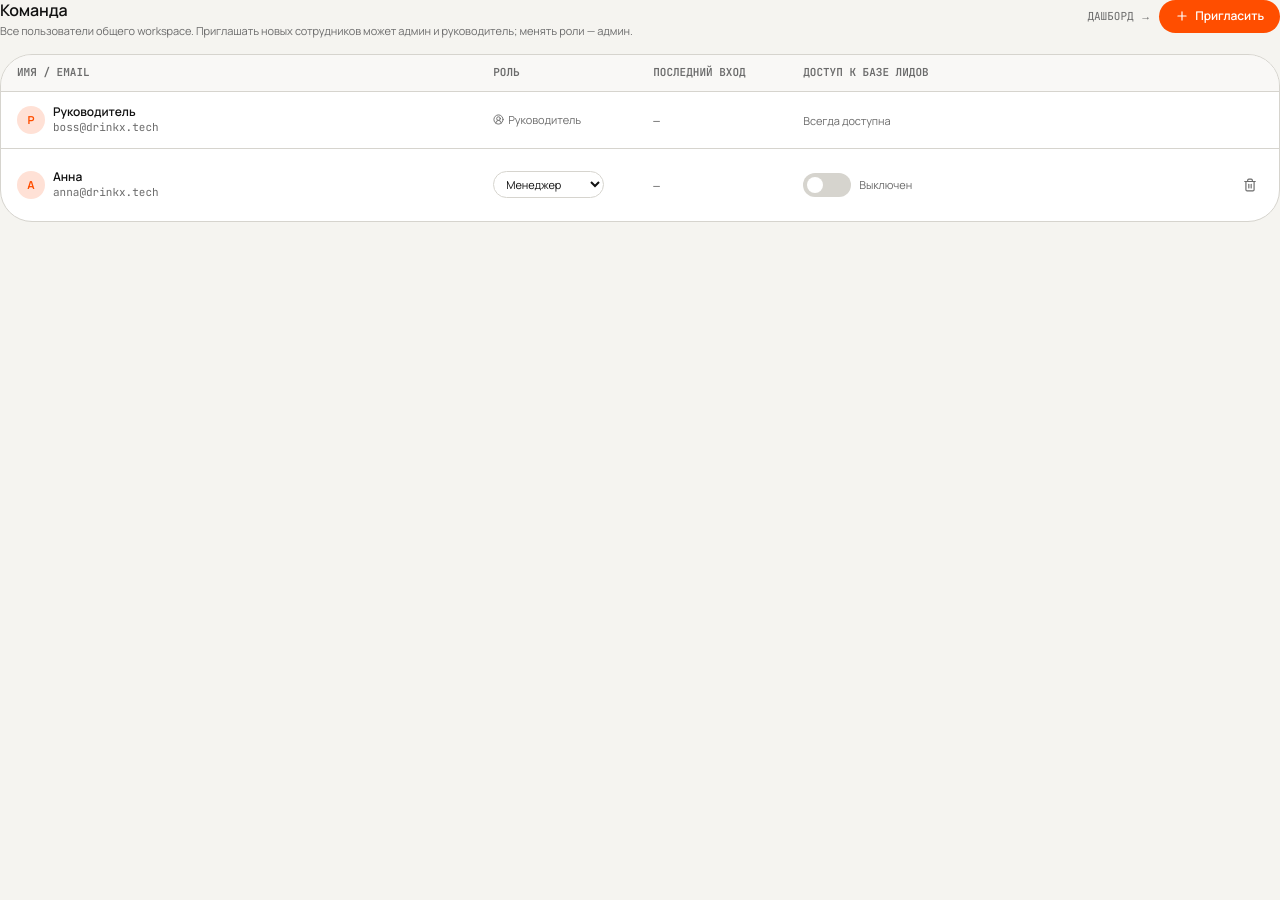
TeamSection — кто может приглашать › говорит про уже существующий аккаунт, а не про обычное приглашение
Click the button "Пригласить" at point(1220, 16), box [1159,0,1279,33]
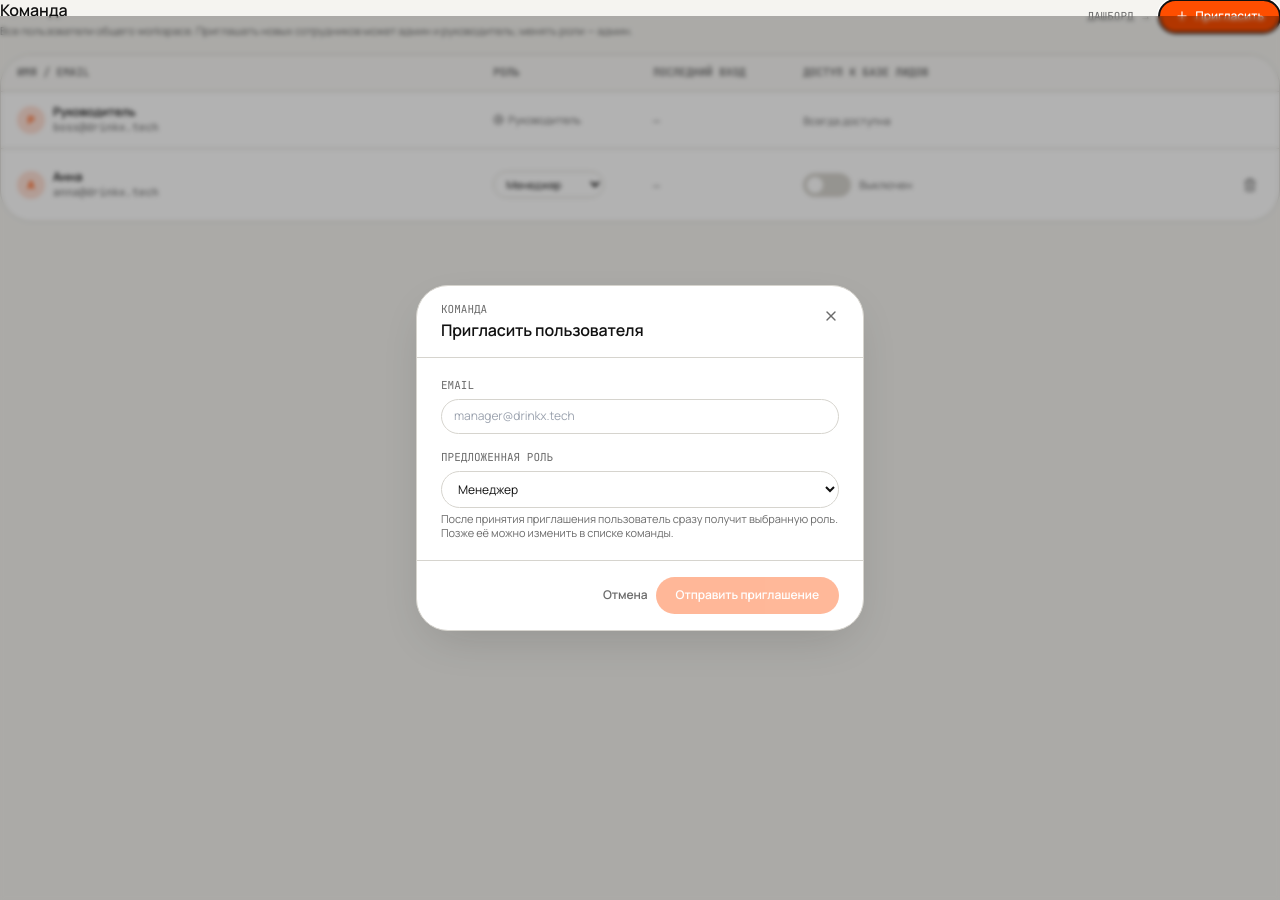
Type "kirill@drinkx.tech" into the field with placeholder "manager@drinkx.tech" at point(640, 416), box [441,399,839,434]
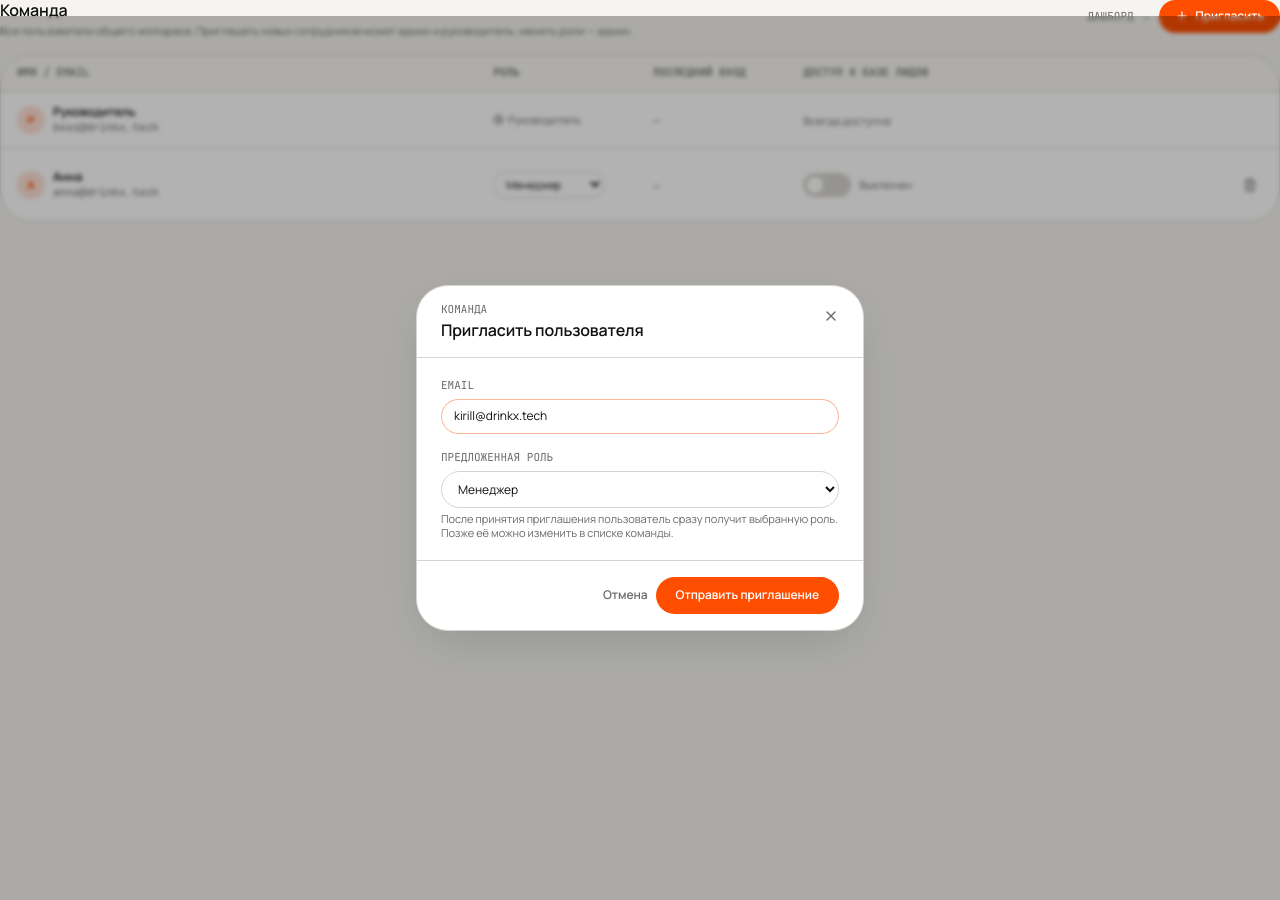
Click the button "Отправить приглашение" at point(747, 595), box [656,577,839,614]
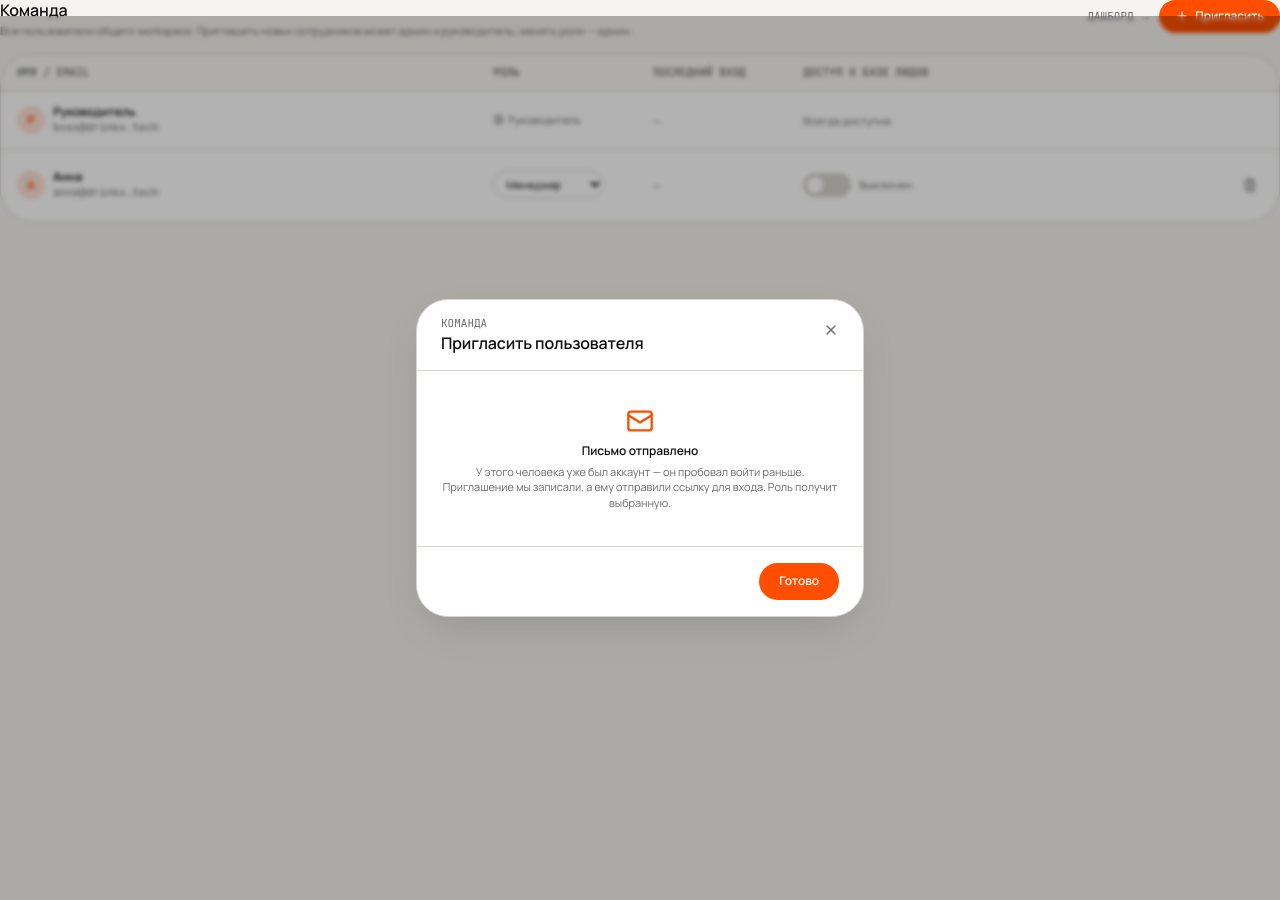
Expected: the text "Письмо отправлено" is shown, [582,442,698,459]
Expected: the text "уже был аккаунт" is shown, [443,464,837,510]
